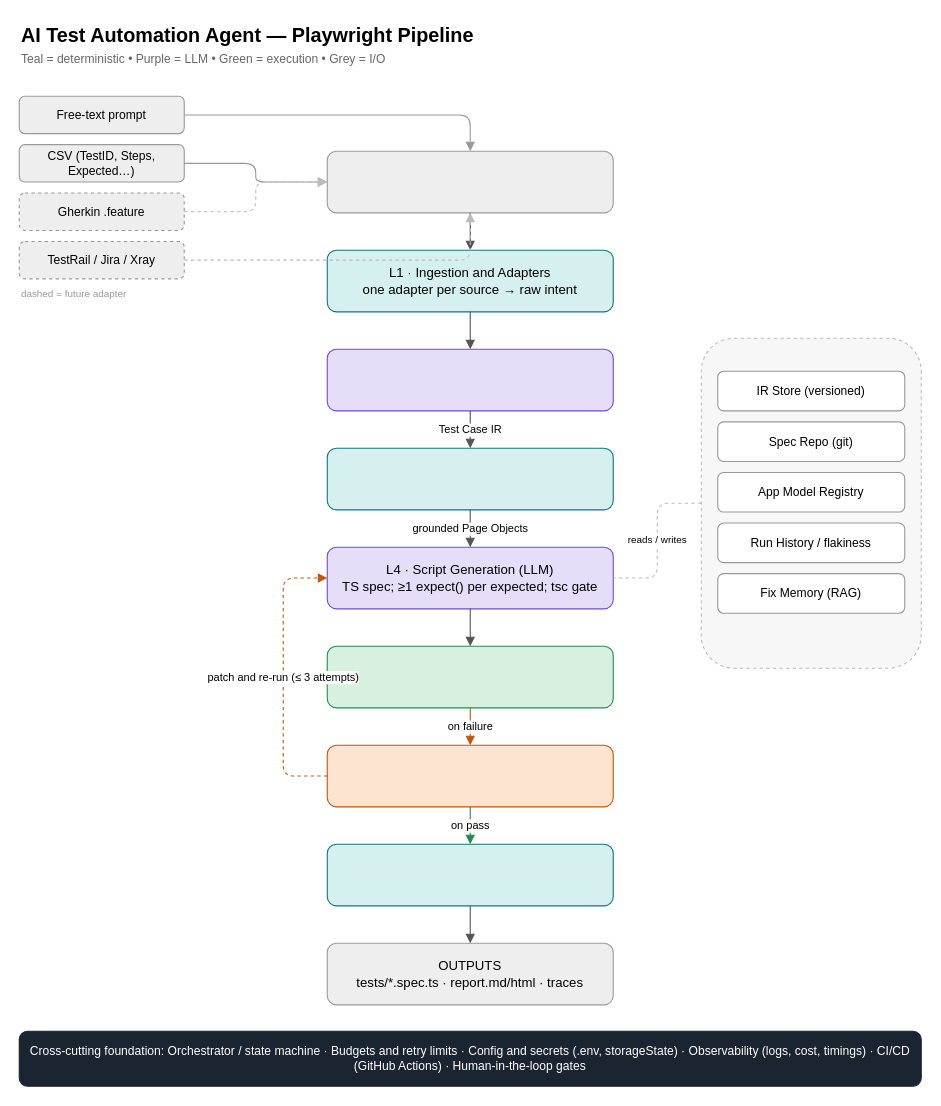
Image size: 941x1106. Some labels were removed from this diagram. Each missing label, with the box of its shape:
INPUTS sources, no reformatting: (326, 150, 613, 213)
L2 · Normalization → Test Case IR (LLM) canonical schema; clarification gate: (326, 348, 613, 411)
L3 · App Grounding a11y snapshot → Page Objects + selector map: (326, 447, 613, 510)
L5 · Execution playwright test; trace / screenshot / video: (326, 645, 613, 708)
L6 · Analysis and Self-heal (LLM) classify failure → fix cause; app-bug = STOP: (326, 744, 613, 807)
L7 · Reporting per-case status + reason; nothing skipped: (326, 843, 613, 906)
Persistence and Registry: (700, 337, 921, 668)
